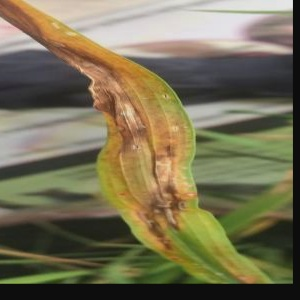Brown_Spot: (66, 58, 145, 146), (127, 197, 185, 244), (150, 178, 205, 224)
